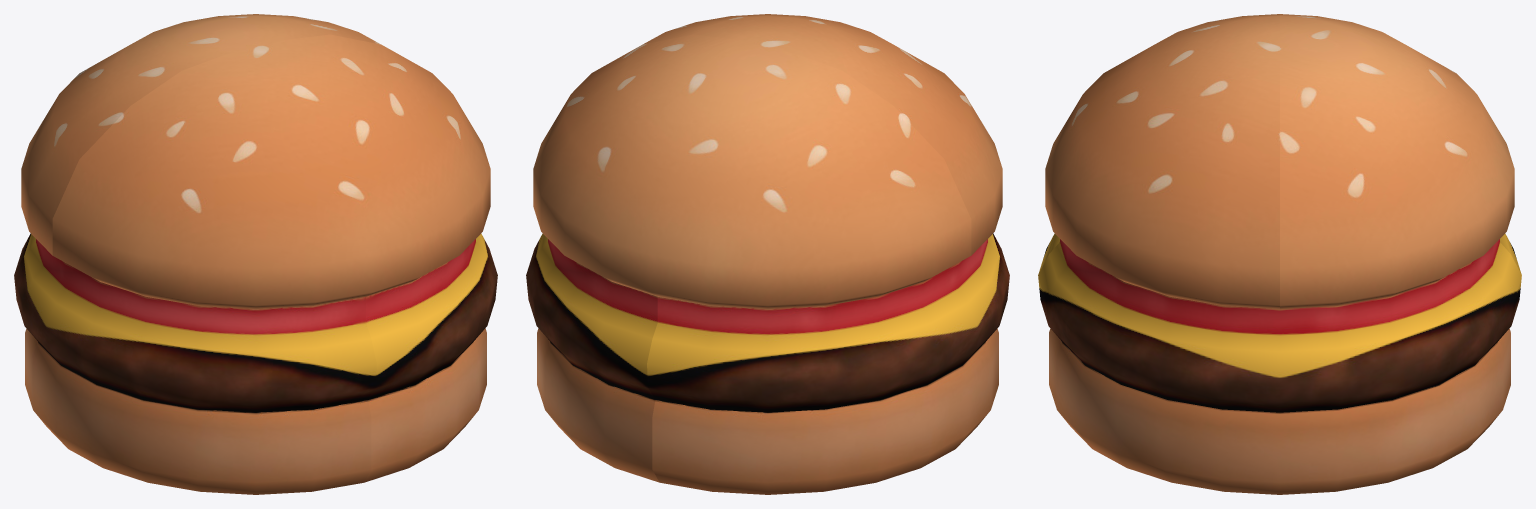
File: Burger.fbx
3 renders of one model, left to right at view 1: azimuth 30°, elevation 25°; view 2: azimuth 150°, elevation 25°; view 3: azimuth 270°, elevation 25°, orthographic.
Visible parts, largest first — view 1: Burger_1; view 2: Burger_1; view 3: Burger_1.
Part boxes in pixels (x1,y1,x2,y2): Burger_1: (14,14,497,494); Burger_1: (526,14,1009,494); Burger_1: (1038,14,1521,494).
Size of the model in its own units: 53.75 by 43.66 by 53.75.
Materials: 1 (1 with a texture image).
